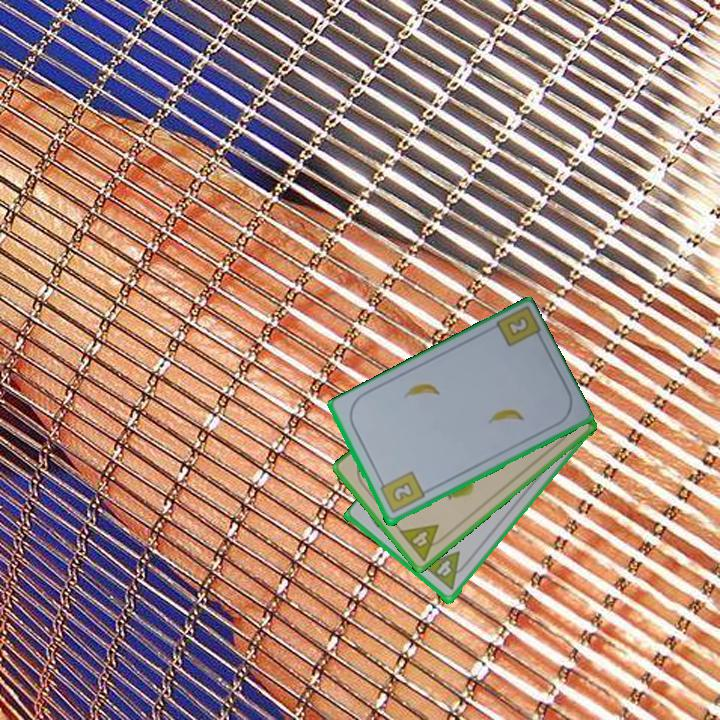2b: (376, 468, 427, 516), (503, 313, 532, 339)
4p: (420, 548, 472, 593), (396, 521, 450, 564)
